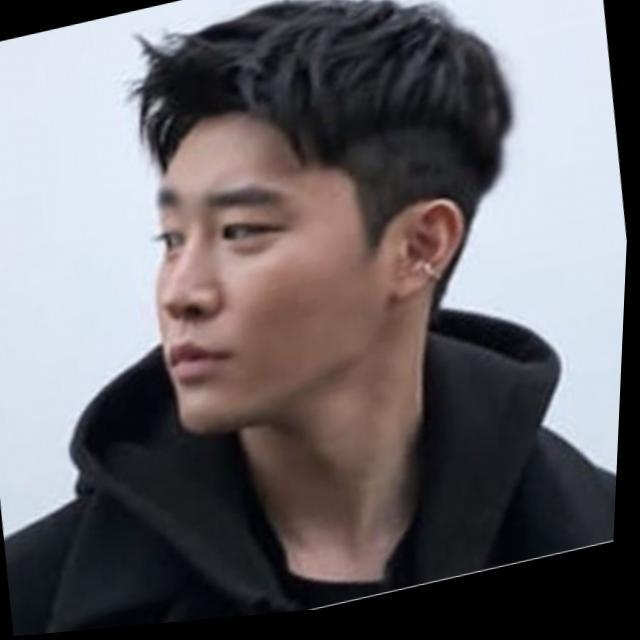Nonhelmet: (122, 0, 517, 437)
